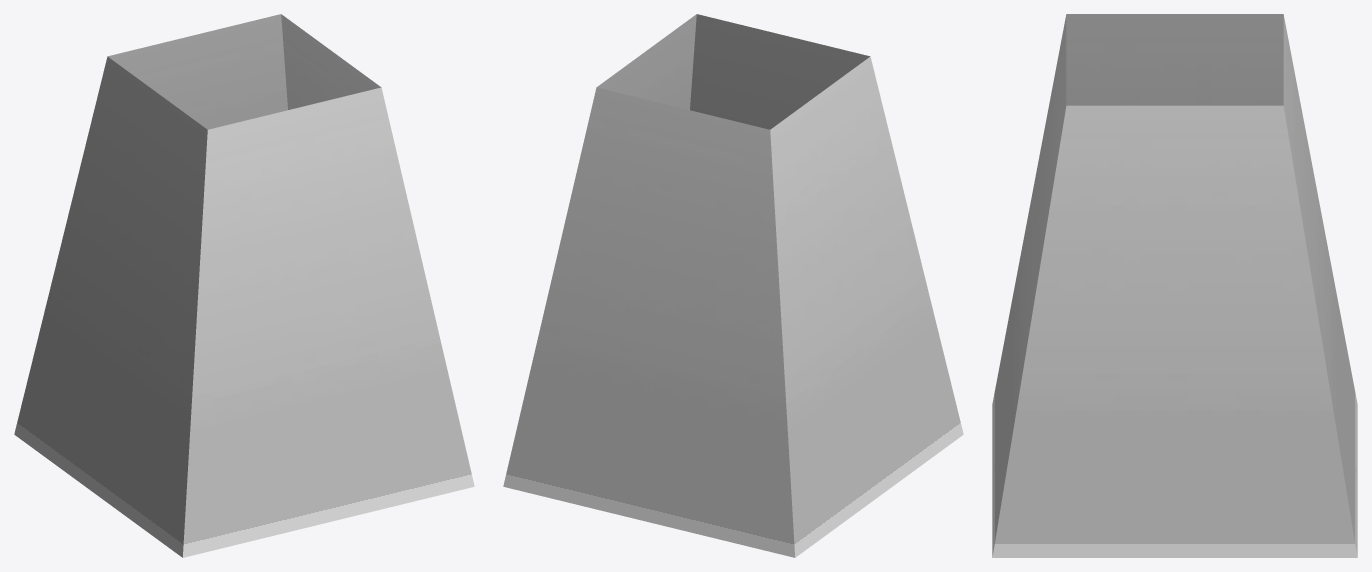
File: LightBeamSquare.fbx
3 views of the same model, side by side, from view 1: azimuth 30°, elevation 25°; view 2: azimuth 150°, elevation 25°; view 3: azimuth 270°, elevation 25° (orthographic). The views are drawn at different scales.
Parts seen in each view (by area): view 1: Cube; view 2: Cube; view 3: Cube.
Part boxes in pixels (x1,y1,x2,y2): Cube: (14, 14, 474, 557); Cube: (503, 14, 963, 557); Cube: (992, 14, 1357, 557).
Bounding box in the file's own units: 3.36 × 4.28 × 3.36.
